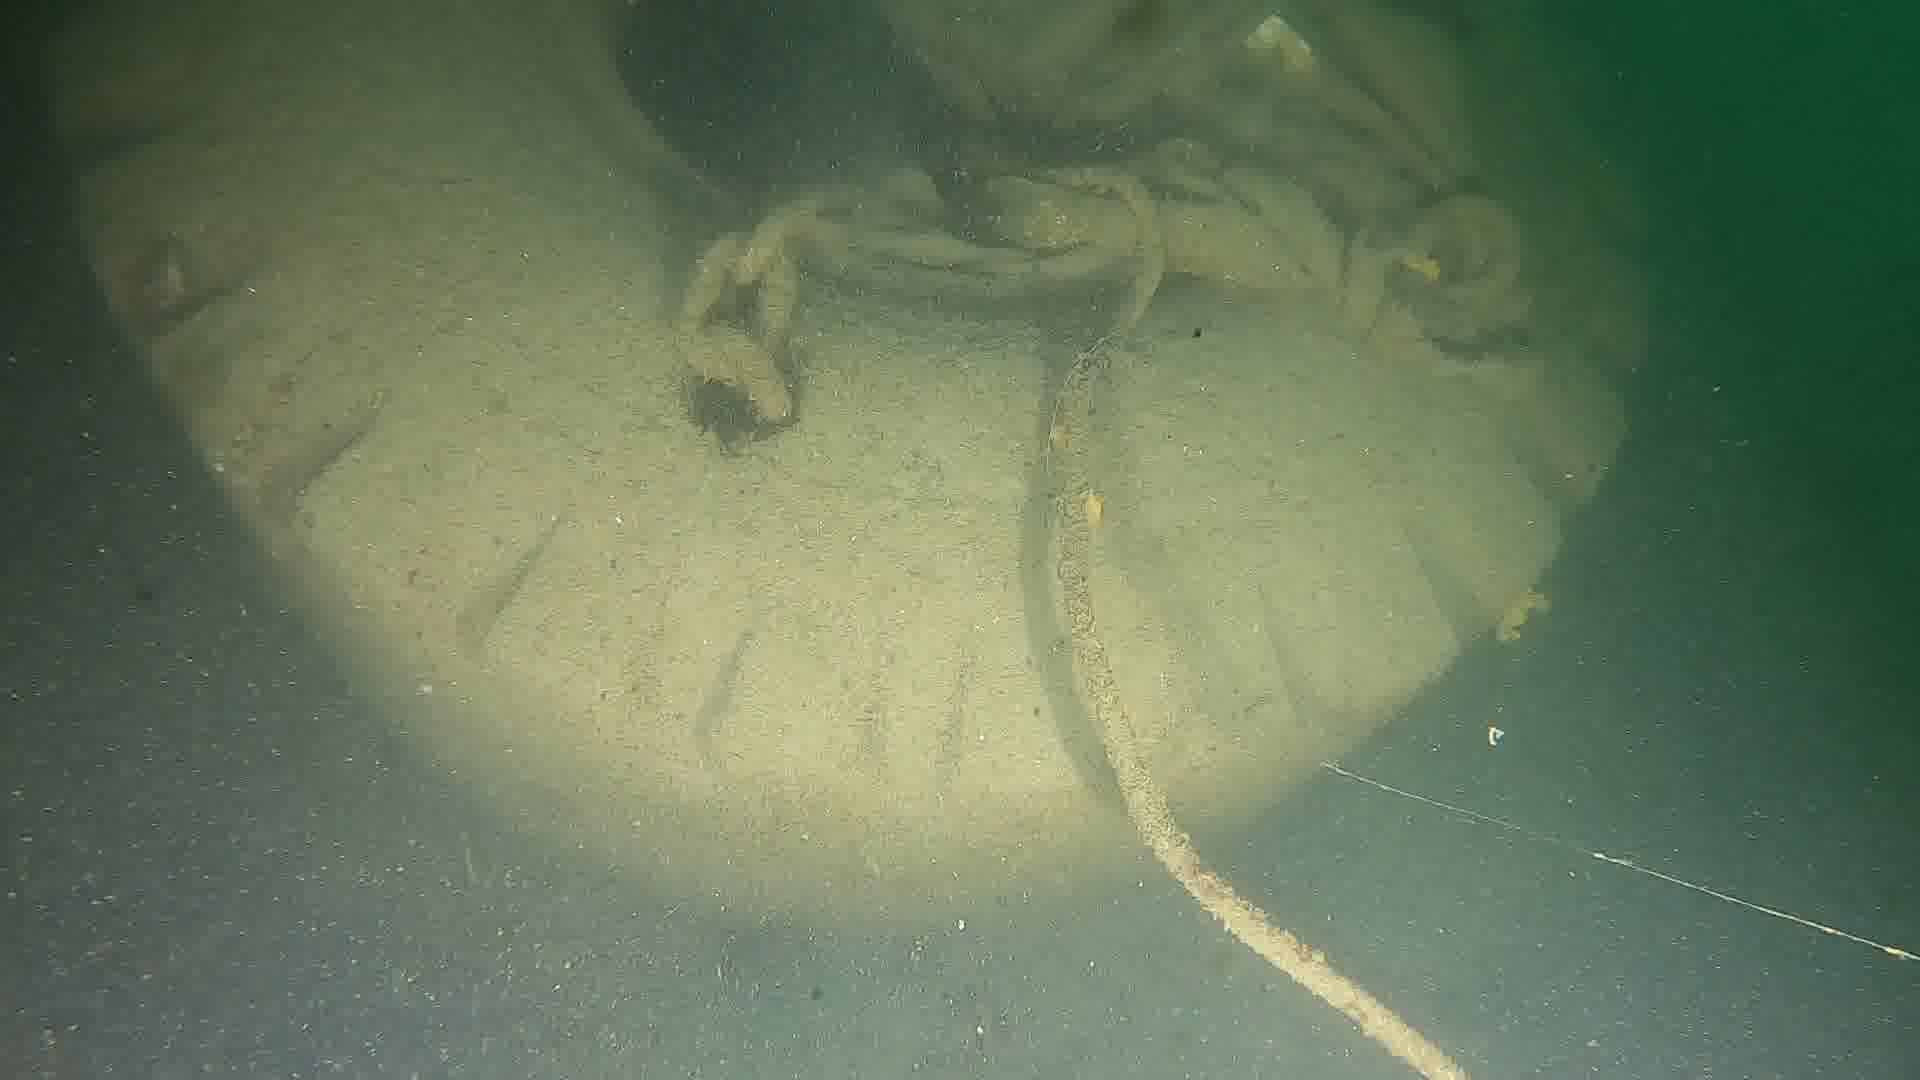tire: (47, 0, 1646, 928)
